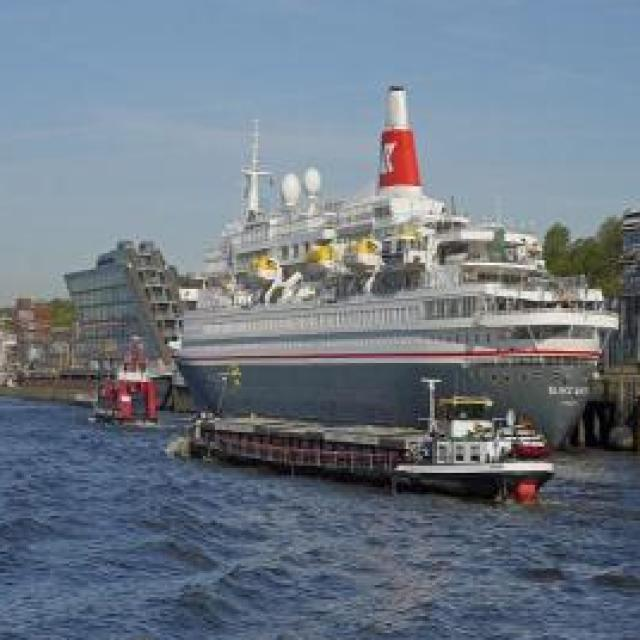cargoship: (175, 385, 555, 512)
passenger ship: (172, 186, 600, 440)
